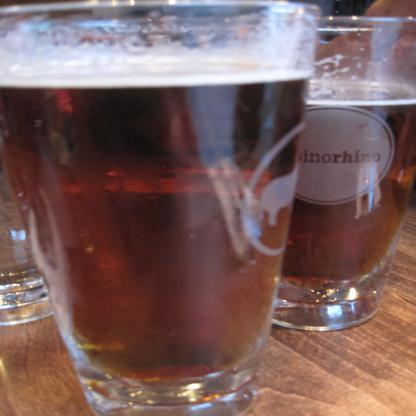drinking: (0, 0, 320, 415), (239, 16, 415, 332)
